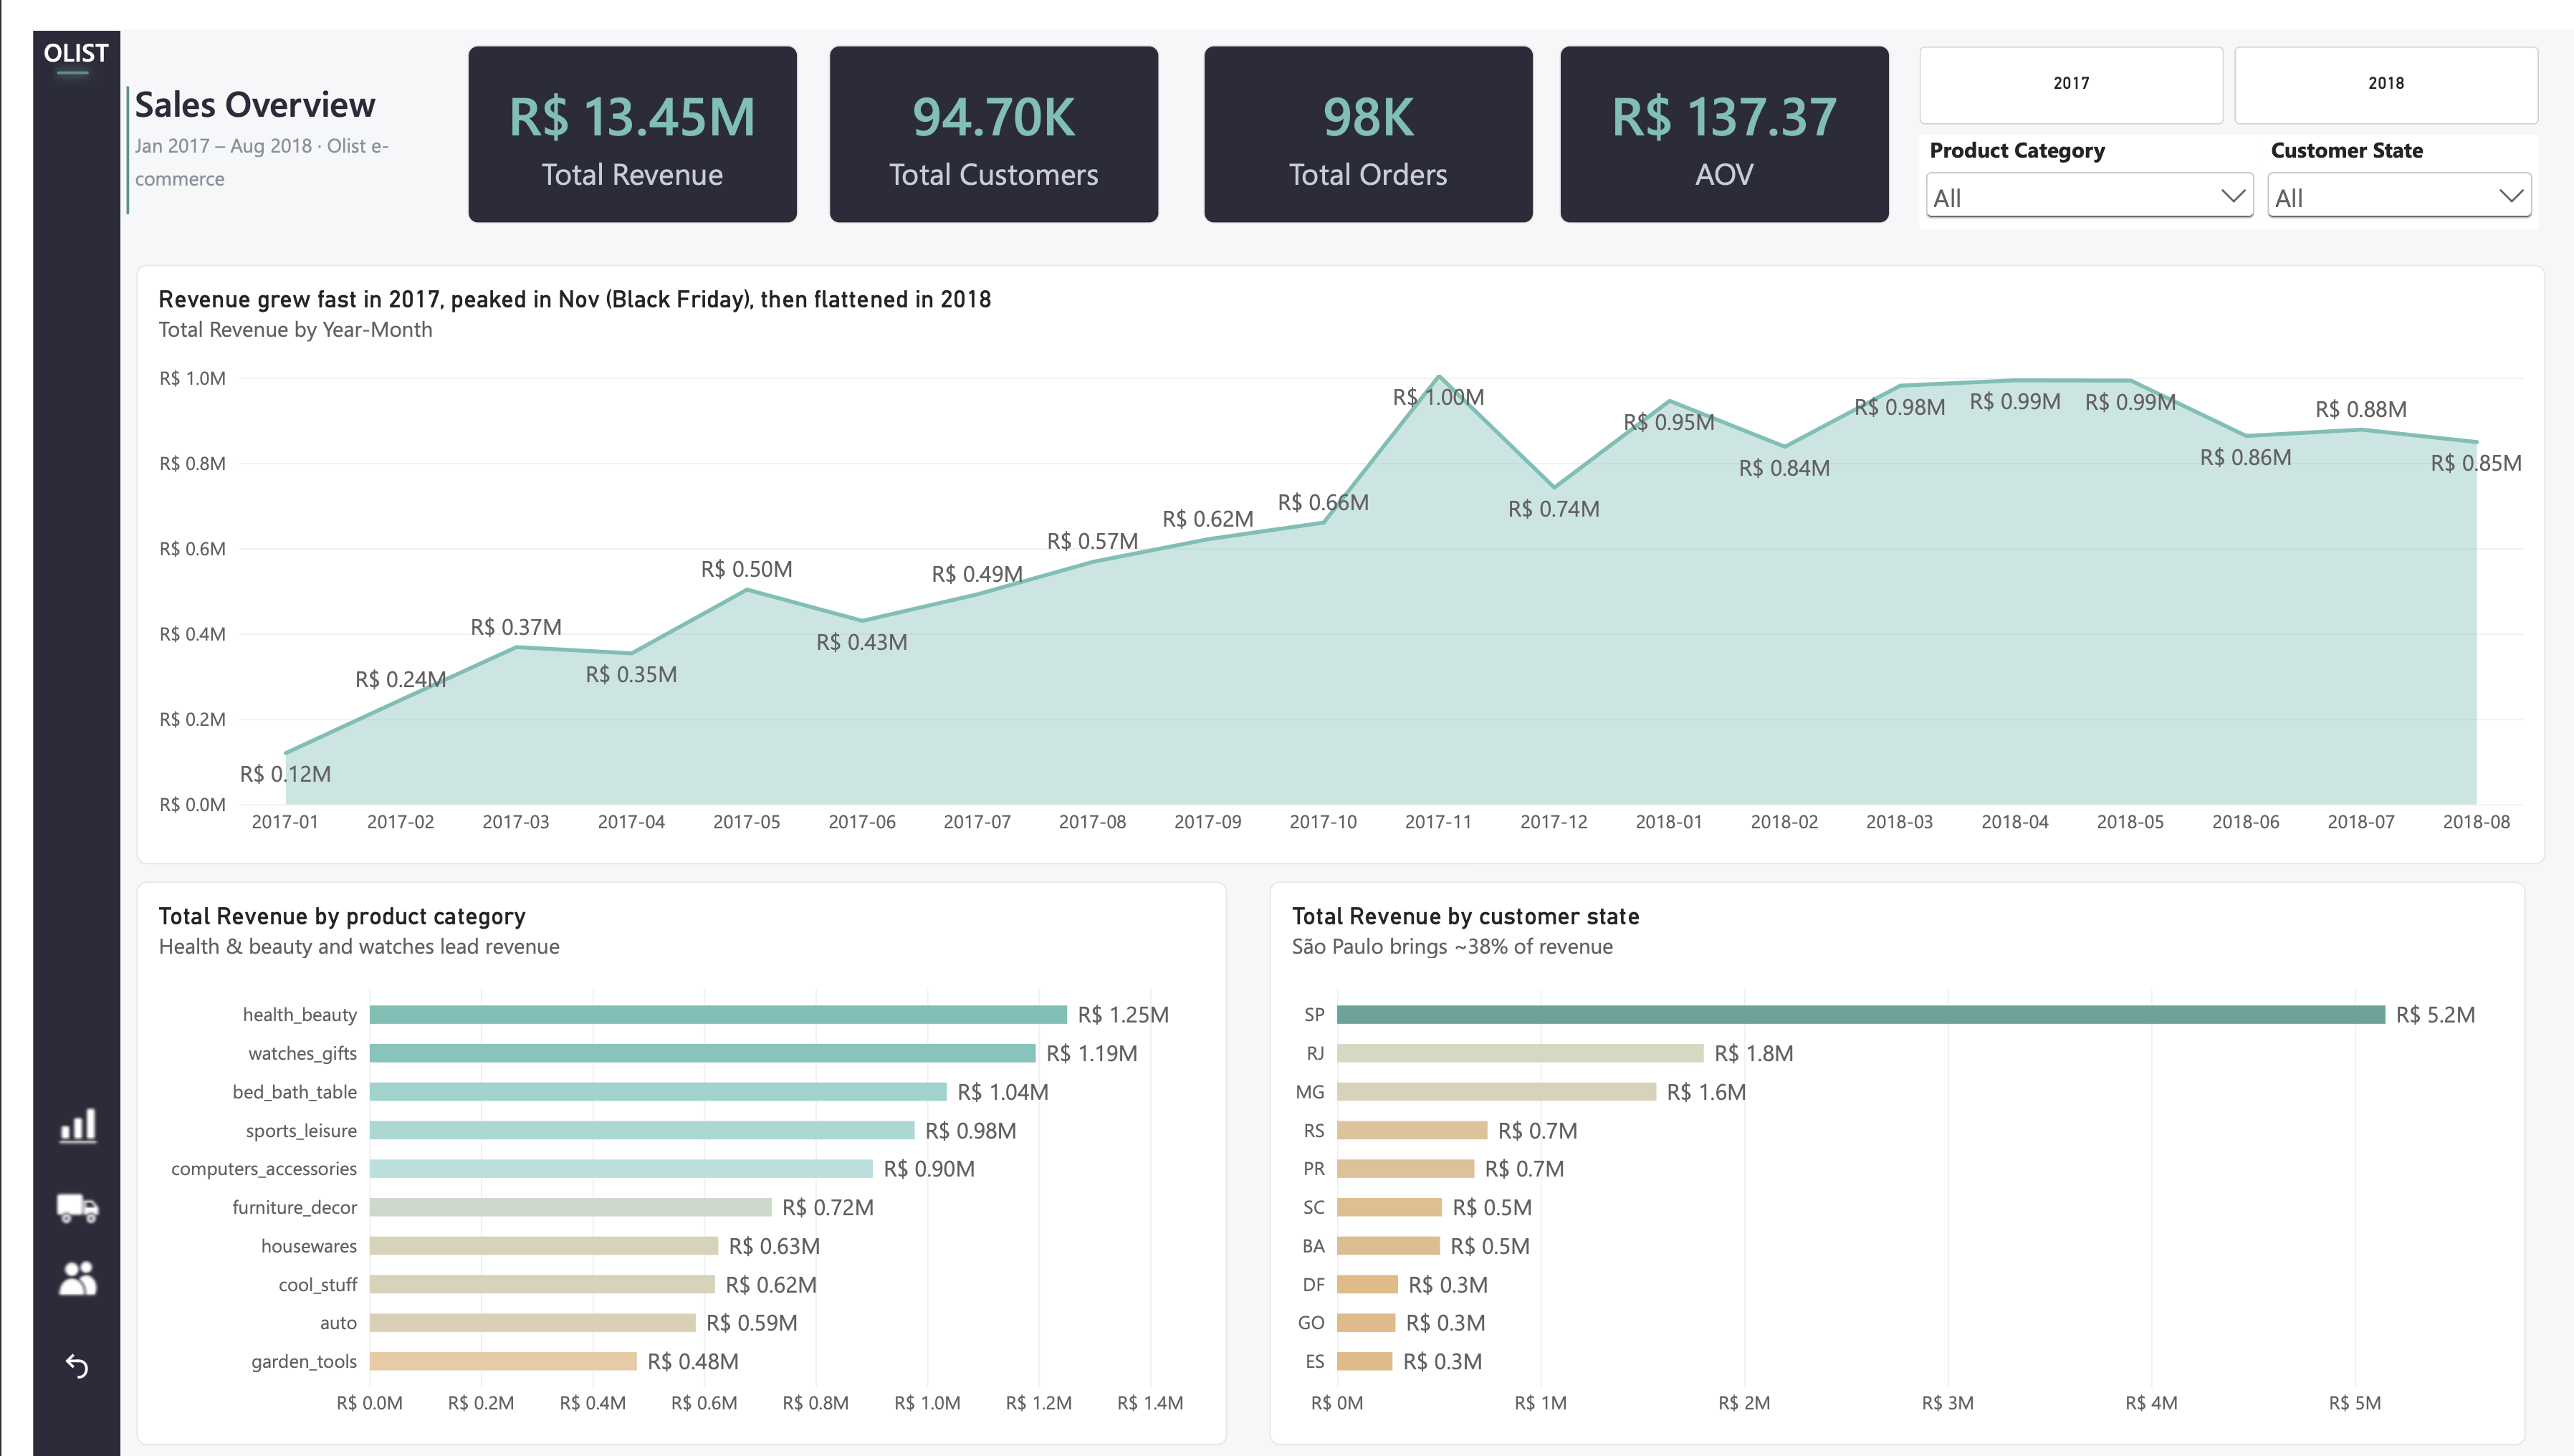

The page's visual inventory and layout, read from the dashboard file:
{"tool":"powerbi","page":{"name":"Sales","canvas":[1920,1080],"ordinal":0},"visuals":[{"type":"textbox","box":[77.4,12.3,240.7,135.1],"z":0},{"type":"card","fields":{"Values":["_Measures.Total Revenue"]},"box":[327.9,12.3,250,135],"z":1000},{"type":"card","fields":{"Values":["_Measures.Total Customers"]},"box":[600.6,12.3,250,135],"z":2000},{"type":"card","fields":{"Values":["_Measures.AOV"]},"box":[1152.7,12.3,250,135],"z":3000},{"type":"card","fields":{"Values":["_Measures.Total Orders"]},"box":[884.3,12.3,250,135],"z":4000},{"type":"lineChart","title":"Revenue grew fast in 2017, peaked in Nov (Black Friday), then flattened in 2018","fields":{"Category":["Calendar.Year-Month"],"Y":["_Measures.Total Revenue"]},"box":[77.5,177.5,1820.2,453.9],"z":5000},{"type":"barChart","title":"Total Revenue by product category","fields":{"Category":["dim_products.product_category"],"Y":["_Measures.Total Revenue"]},"box":[77.5,643.8,824.7,425.8],"z":6000},{"type":"barChart","title":"Total Revenue by customer state","fields":{"Category":["dim_customers.customer_state"],"Y":["_Measures.Total Revenue"]},"box":[933.7,643.8,949.4,425.8],"z":7000},{"type":"advancedSlicerVisual","fields":{"Values":["Calendar.Year"]},"box":[1424.6,12.8,468.3,59.3],"z":8000},{"type":"shape","box":[0,1.1,65.6,1078.2],"z":9000},{"type":"slicer","fields":{"Values":["dim_customers.customer_state"]},"box":[1682.6,80.2,210.3,70.9],"z":10000},{"type":"slicer","fields":{"Values":["dim_products.product_category"]},"box":[1424.6,80.2,258,70.9],"z":11000},{"type":"textbox","box":[0,4.5,65.6,134.6],"z":12000},{"type":"actionButton","box":[0,799.5,65.1,54],"z":13000},{"type":"actionButton","box":[0,862.2,65.1,54],"z":14000},{"type":"actionButton","box":[0,916.2,65.1,54],"z":15000},{"type":"actionButton","box":[0,980.1,65.1,59],"z":16000},{"type":"shape","box":[9.8,4.9,40.5,56.5],"z":17000},{"type":"shape","box":[50.4,43,43,97],"z":18000}]}

Visuals, with their boxes on the page's 1920x1080 design canvas (x1, y1, x2, y2). These are canvas units, not pixel positions in the 2574x1456 screenshot, which may show the page scaled, cropped or inside an application window:
textbox: bbox=(77, 12, 318, 147)
card - _Measures.Total Revenue: bbox=(328, 12, 578, 147)
card - _Measures.Total Customers: bbox=(601, 12, 851, 147)
card - _Measures.AOV: bbox=(1153, 12, 1403, 147)
card - _Measures.Total Orders: bbox=(884, 12, 1134, 147)
"Revenue grew fast in 2017, peaked in Nov (Black Friday), then flattened in 2018" lineChart: bbox=(78, 178, 1898, 631)
"Total Revenue by product category" barChart: bbox=(78, 644, 902, 1070)
"Total Revenue by customer state" barChart: bbox=(934, 644, 1883, 1070)
advancedSlicerVisual - Calendar.Year: bbox=(1425, 13, 1893, 72)
shape: bbox=(0, 1, 66, 1079)
slicer - dim_customers.customer_state: bbox=(1683, 80, 1893, 151)
slicer - dim_products.product_category: bbox=(1425, 80, 1683, 151)
textbox: bbox=(0, 4, 66, 139)
actionButton: bbox=(0, 800, 65, 854)
actionButton: bbox=(0, 862, 65, 916)
actionButton: bbox=(0, 916, 65, 970)
actionButton: bbox=(0, 980, 65, 1039)
shape: bbox=(10, 5, 50, 61)
shape: bbox=(50, 43, 93, 140)
